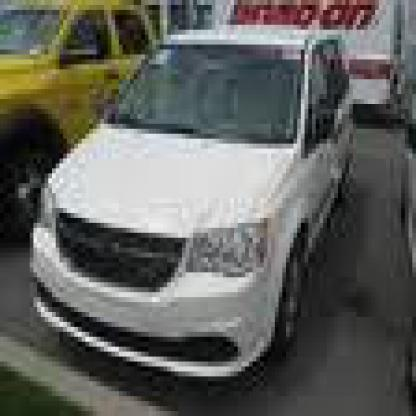Vehicle: (33, 35, 364, 401)
